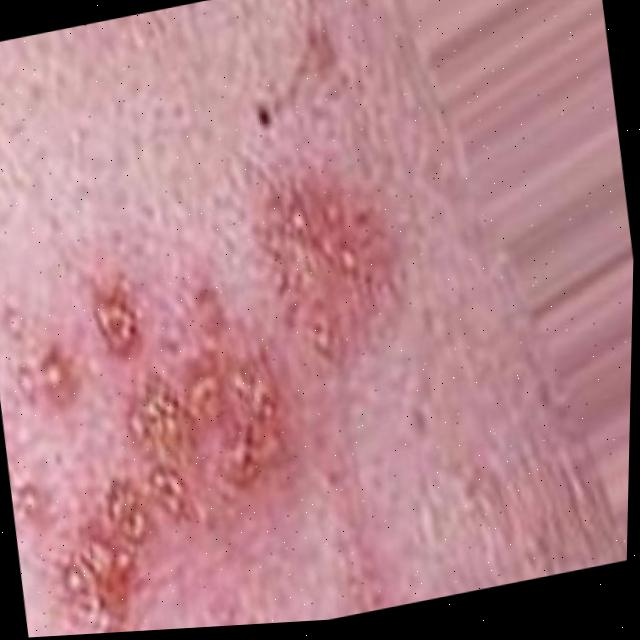Shingles: (0, 159, 445, 640)
